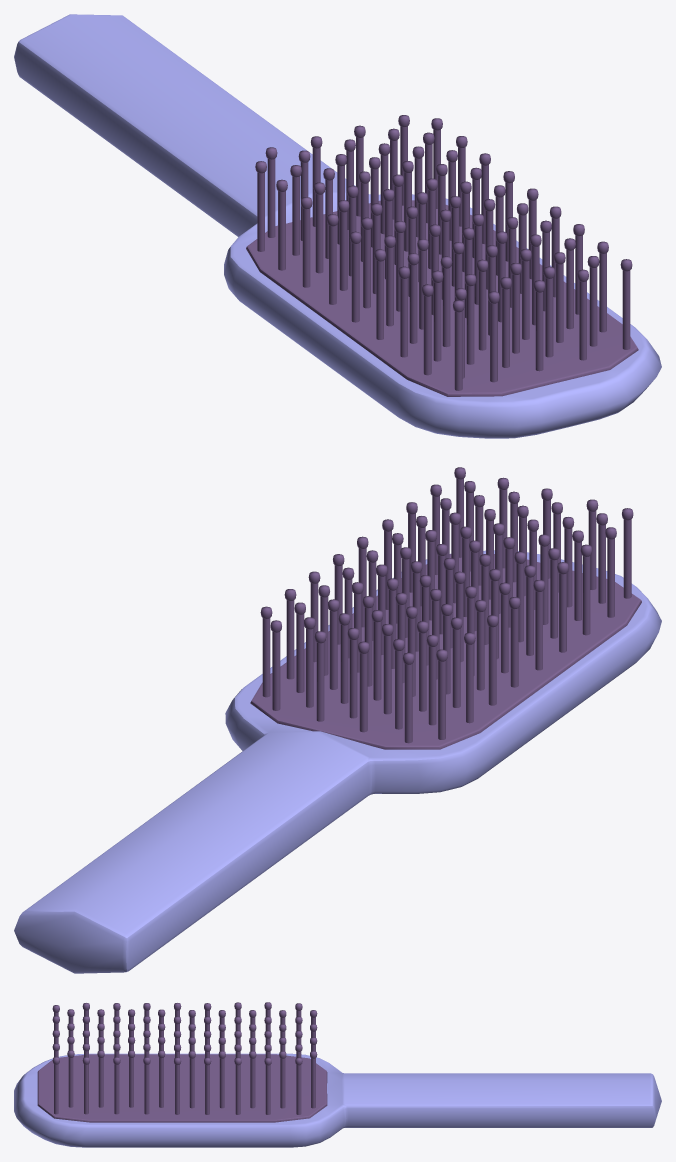
File: hairbrush.fbx
The picture shows the model from 3 angles, top to bottom: view 1: azimuth 30°, elevation 25°; view 2: azimuth 150°, elevation 25°; view 3: azimuth 270°, elevation 25°; orthographic projection. The views are drawn at different scales.
Parts seen in each view (by area): view 1: hairbrush; view 2: hairbrush; view 3: hairbrush.
Boxes of the visible parts, box(x1,y1,x2,y2) form: hairbrush: box(14, 14, 661, 438); hairbrush: box(14, 467, 661, 973); hairbrush: box(14, 1002, 661, 1147).
Bounding box in the file's own units: 2.14 × 1.16 × 7.59.
Materials: 1 (1 with a texture image).
